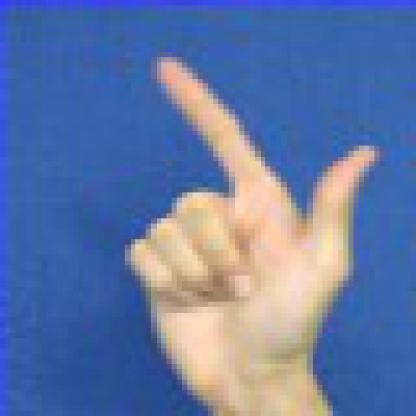seven: (93, 40, 396, 415)
